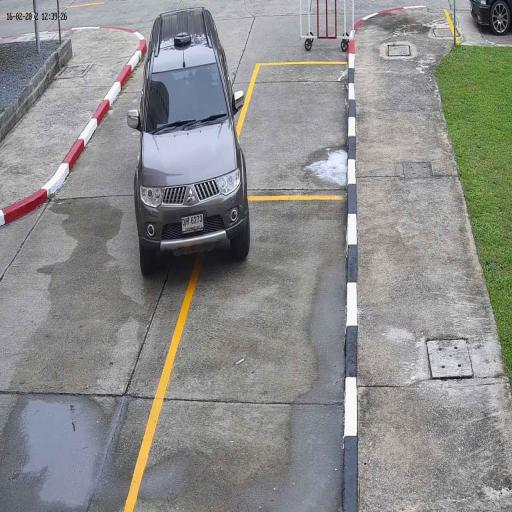car: (132, 6, 250, 279)
